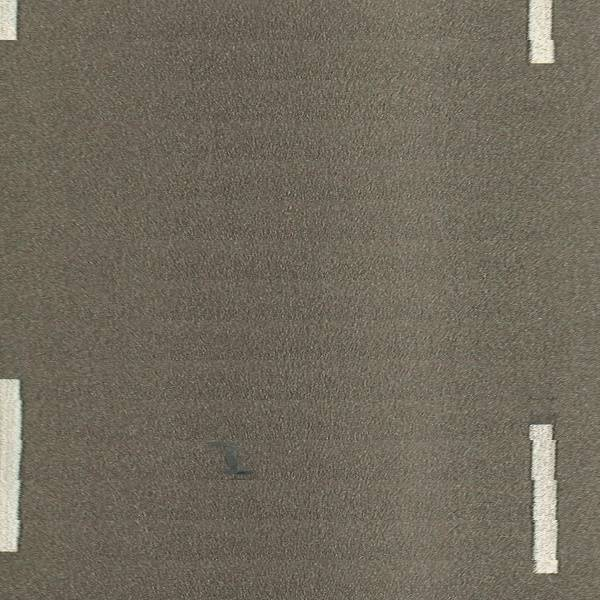road_damage: (207, 432, 258, 487)
